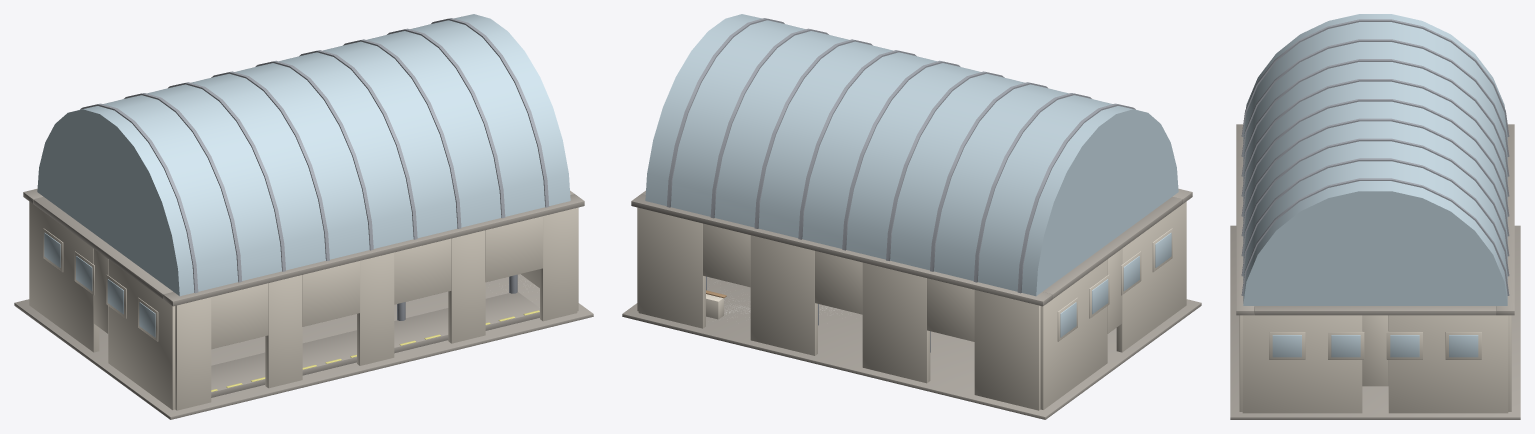
File: th10_bahnhof.glb
The picture shows the model from 3 angles, left to right: view 1: azimuth 30°, elevation 25°; view 2: azimuth 150°, elevation 25°; view 3: azimuth 270°, elevation 25°; orthographic projection. The views are drawn at different scales.
Visible parts, largest first — view 1: Cylinder, Cube, Cube.044, Cube.018, Cube.019, Cube.009, Cube.040, Cube.011, Cube.010, Cube.013, Cube.012, Cube.016 (+14 smaller); view 2: Cylinder, Cube, Cube.002, Cube.003, Cube.004, Cube.005, Cube.019, Cube.018, Cube.041, Cube.007, Cube.006, Cube.008 (+11 smaller); view 3: Cylinder, Cube.029, Cube.030, Cube, Cube.043, Cube.031, Cube.040, Cube.041, Cylinder.006, Cylinder.007, Cylinder.008, Cylinder.002 (+15 smaller).
Part boxes in pixels (<box>): Cylinder: <box>37,14,570,296</box>; Cube: <box>14,274,593,419</box>; Cube.044: <box>211,292,539,397</box>; Cube.018: <box>108,259,175,409</box>; Cube.019: <box>29,201,99,352</box>; Cube.009: <box>175,297,211,410</box>; Cube.040: <box>163,194,584,306</box>; Cube.011: <box>357,252,394,365</box>; Cube.010: <box>265,275,302,388</box>; Cube.013: <box>540,208,577,321</box>; Cube.012: <box>448,230,485,343</box>; Cube.016: <box>394,238,451,304</box>; Cylinder: <box>645,14,1178,296</box>; Cube: <box>622,277,1201,419</box>; Cube.002: <box>974,290,1040,410</box>; Cube.003: <box>862,262,930,383</box>; Cube.004: <box>750,235,817,355</box>; Cube.005: <box>638,208,705,328</box>; Cube.019: <box>1040,259,1107,409</box>; Cube.018: <box>1116,201,1186,352</box>; Cube.041: <box>631,194,1052,306</box>; Cube.007: <box>815,251,862,314</box>; Cube.006: <box>927,278,974,341</box>; Cube.008: <box>703,223,750,287</box>; Cylinder: <box>1243,14,1507,305</box>; Cube.029: <box>1242,315,1362,413</box>; Cube.030: <box>1388,315,1508,413</box>; Cube: <box>1230,225,1520,419</box>; Cube.043: <box>1254,306,1496,315</box>; Cube.031: <box>1362,315,1388,386</box>; Cube.040: <box>1236,124,1254,315</box>; Cube.041: <box>1496,124,1514,315</box>; Cylinder.006: <box>1241,118,1509,236</box>; Cylinder.007: <box>1241,138,1509,256</box>; Cylinder.008: <box>1241,158,1509,276</box>; Cylinder.002: <box>1241,39,1509,156</box>.
Size of the model in its own units: 44.4 by 24.04 by 28.4.
